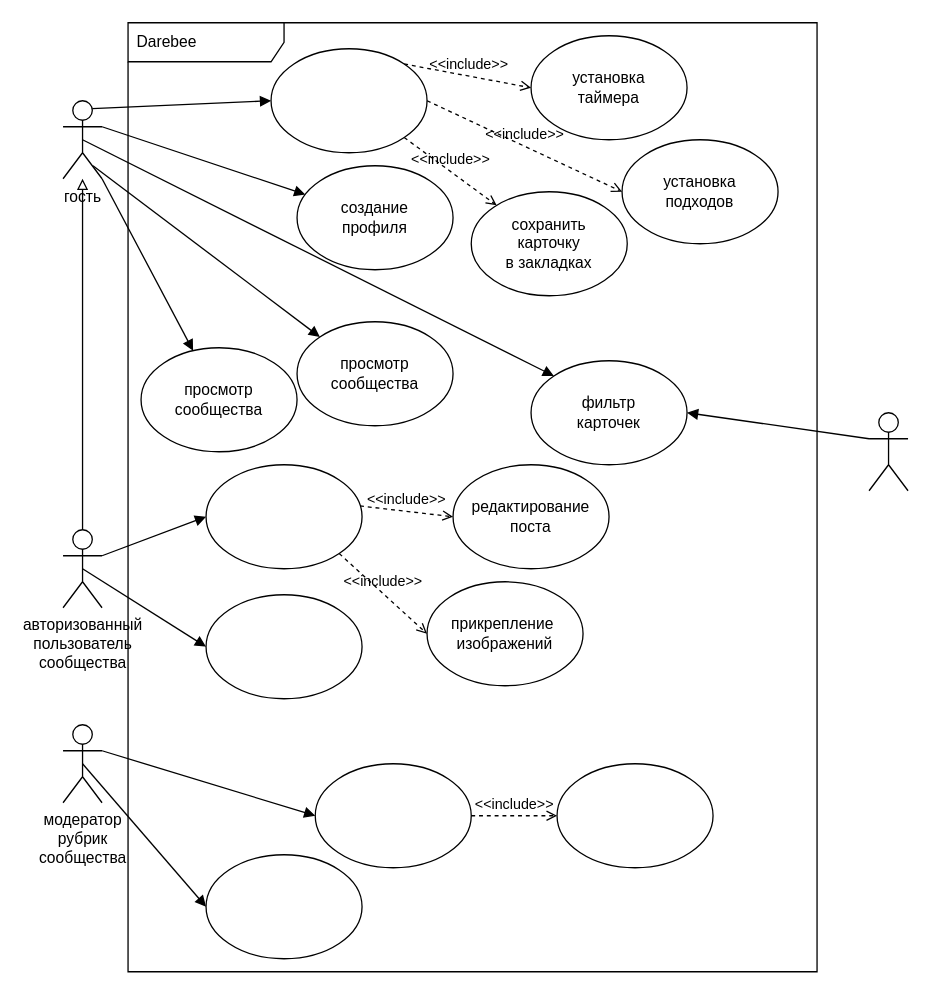
Some shapes in this 940 by 994 pixel diagram are drawn without their labels. Each missing label, with the centre of its shape:
просмотр тренировочных карточек: the point at 348,100
редактирование профиля: the point at 283,646
редактирование рубрик: the point at 634,815
система: the point at 888,451
создание поста: the point at 283,516
создание рубрик: the point at 392,815
удаление постов пользователей: the point at 283,906
